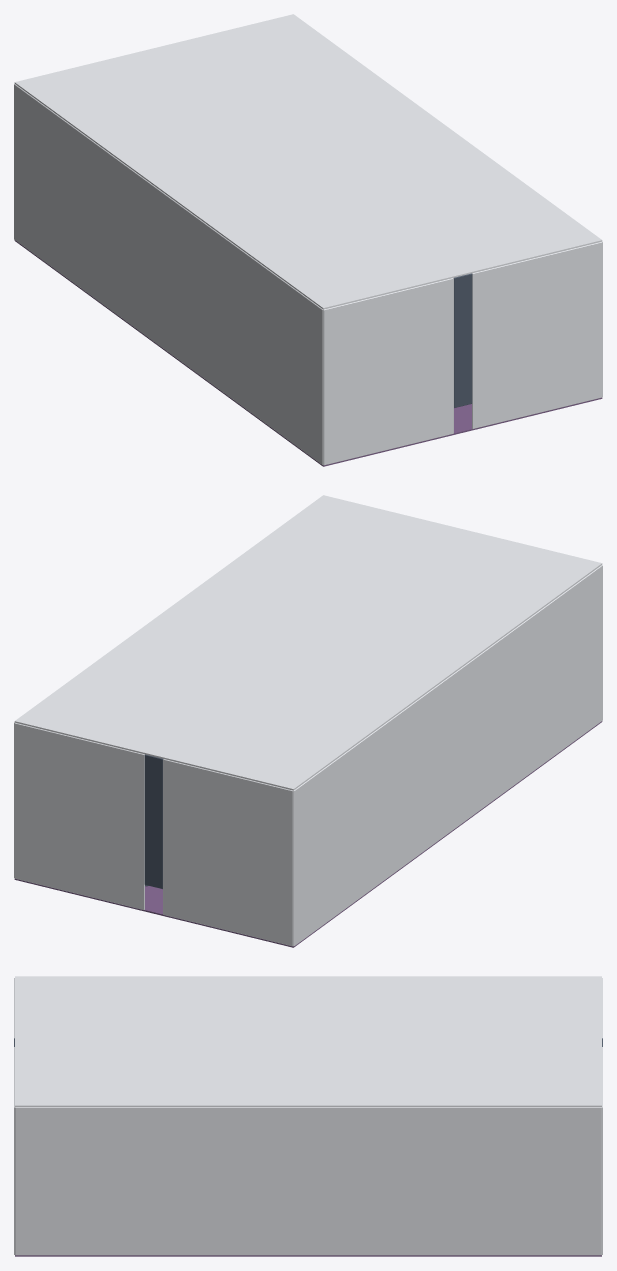
The model's file is atrium.glb.
3 views of the same model, one above another, from view 1: azimuth 30°, elevation 25°; view 2: azimuth 150°, elevation 25°; view 3: azimuth 270°, elevation 25° (orthographic). The views are drawn at different scales.
Visible parts, largest first — view 1: CM_BULKHEAD, CM_TRIM, CM_CARPET; view 2: CM_BULKHEAD, CM_TRIM, CM_CARPET; view 3: CM_BULKHEAD, CM_CARPET.
Part boxes in pixels (<box>): CM_BULKHEAD: <box>14,14,602,465</box>; CM_TRIM: <box>453,273,472,407</box>; CM_CARPET: <box>14,240,602,466</box>; CM_BULKHEAD: <box>14,495,602,946</box>; CM_TRIM: <box>144,754,163,888</box>; CM_CARPET: <box>14,721,602,947</box>; CM_BULKHEAD: <box>14,976,602,1255</box>; CM_CARPET: <box>15,1255,601,1256</box>.
Bounding box in the file's own units: 24.14 × 13.04 × 46.14.
